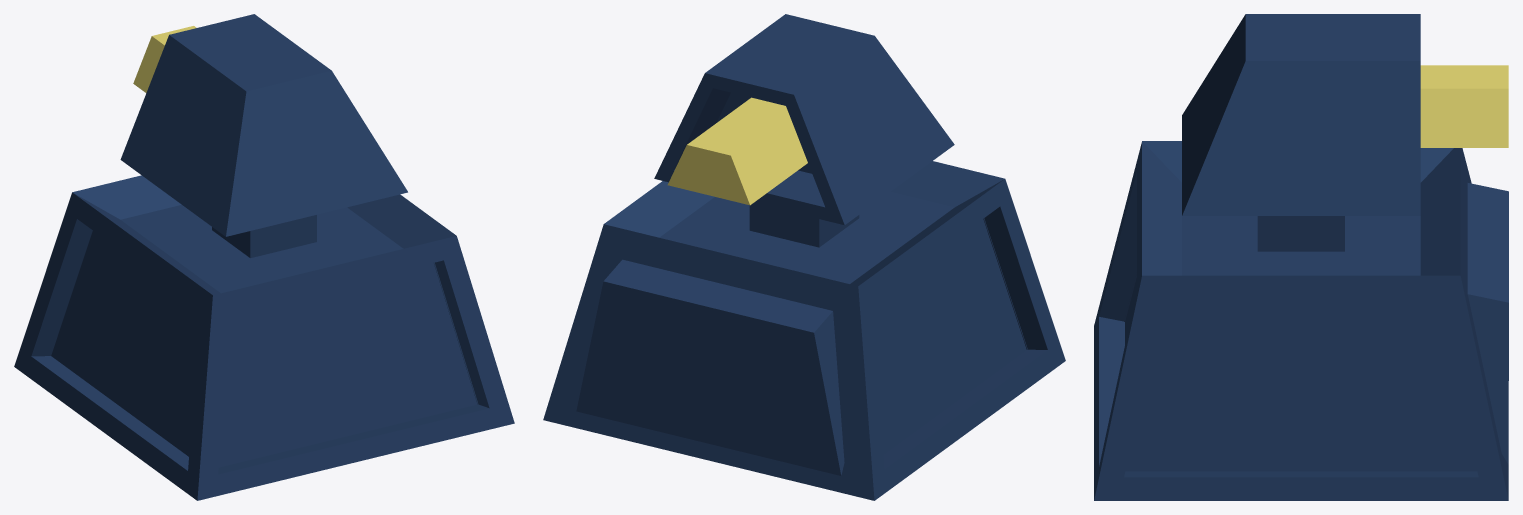
File: Brawler.fbx
The picture shows the model from 3 angles, left to right: view 1: azimuth 30°, elevation 25°; view 2: azimuth 150°, elevation 25°; view 3: azimuth 270°, elevation 25°; orthographic projection. The views are drawn at different scales.
Parts seen in each view (by area): view 1: Brawler, Brawler.001; view 2: Brawler, Brawler.001; view 3: Brawler, Brawler.001.
Part boxes in pixels (x1,y1,x2,y2): Brawler: [14, 175, 514, 500]; Brawler.001: [120, 14, 407, 236]; Brawler: [543, 161, 1065, 500]; Brawler.001: [654, 14, 954, 225]; Brawler: [1094, 141, 1508, 500]; Brawler.001: [1182, 14, 1508, 215].
Bounding box in the file's own units: 4000 × 4000 × 4002.
